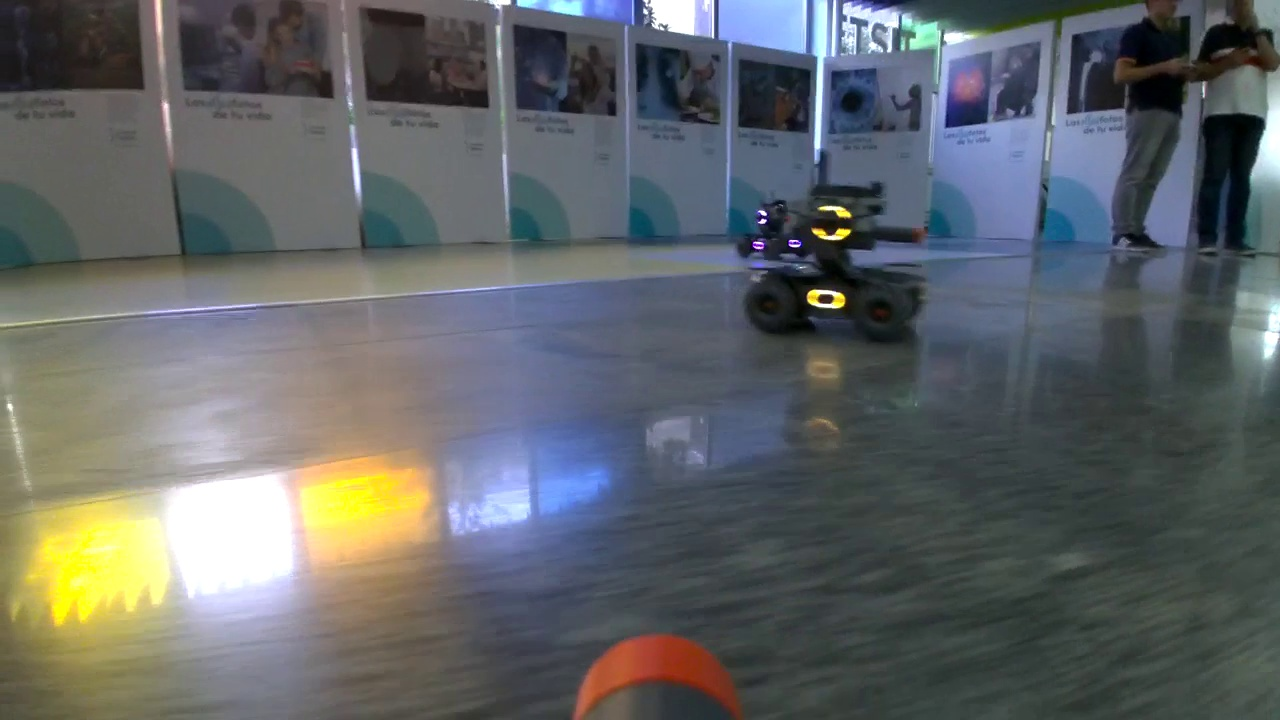robot: (752, 184, 922, 343), (735, 199, 804, 259)
